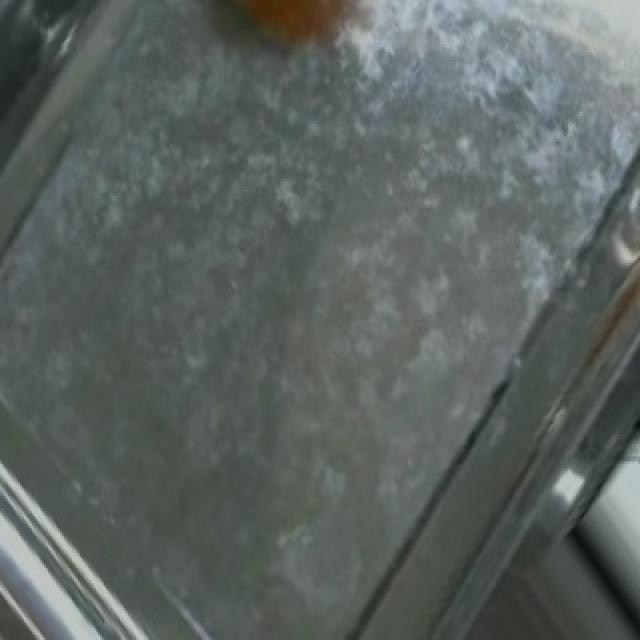Fruit: (190, 2, 404, 82)
